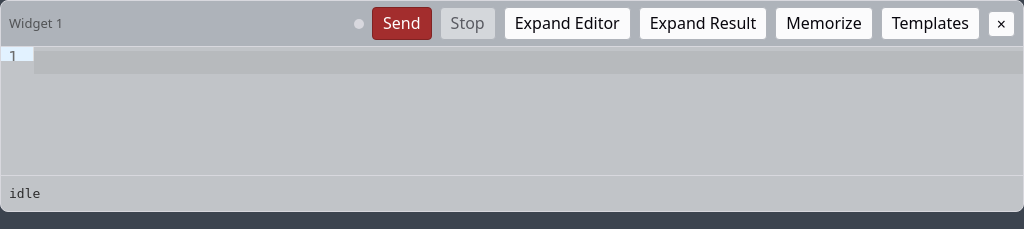
Test: Widget › re-enables send after stopping an in-flight injection
Click the button "Send".
click(402, 24)  # box [372,7,432,40]
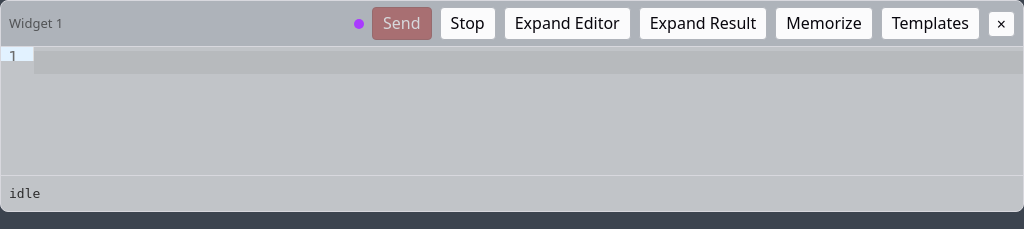
Click the button "Stop".
click(468, 24)  # box [440,7,496,40]
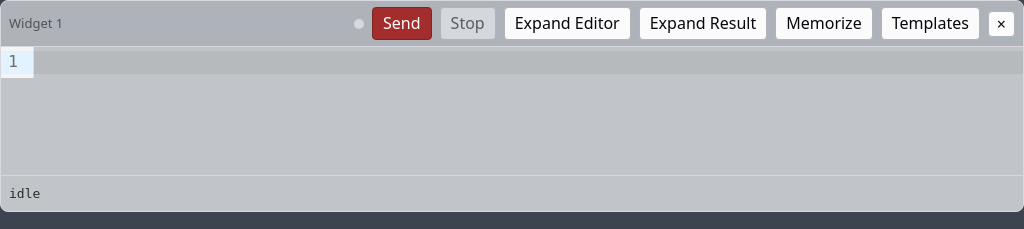
Expected: the text "idle" is shown, [9,186,40,201]
Expected: the button "Send" is enabled, [372,7,432,40]
